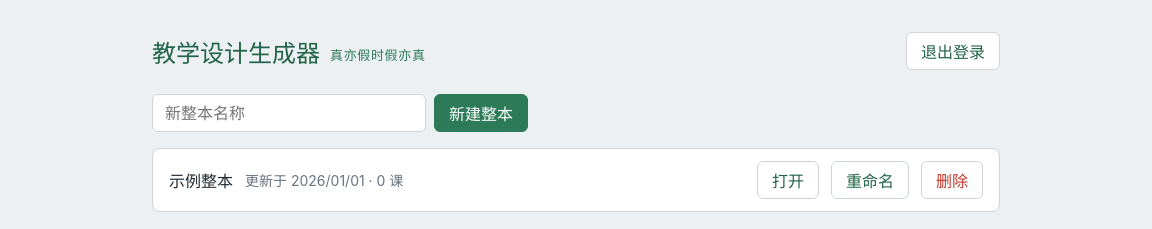
Scenario: App › returns to the books route from the workspace
The width and height of the screenshot is (1152, 229).
Click the button with test id "open-b1" at (788, 180), box [757,161,819,199]
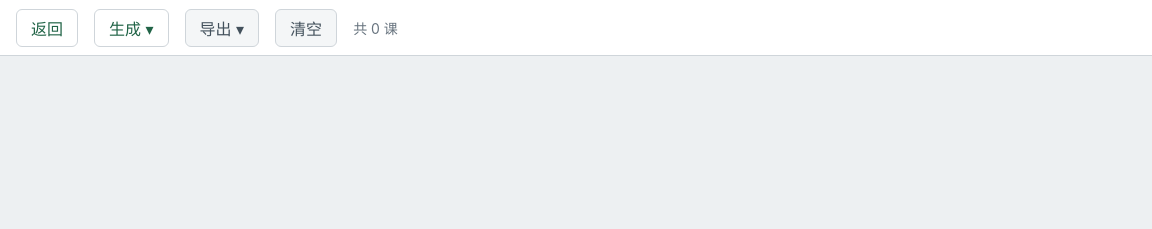
Click the button with test id "back" at (47, 28), box [16,8,78,46]
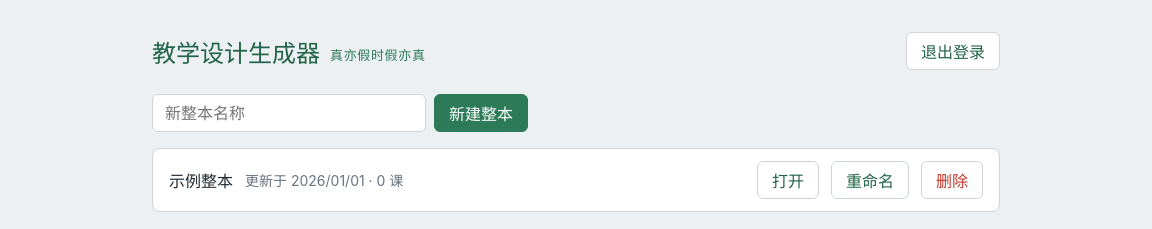
Check: the text "教学设计" is shown, box [152,38,320,68]
